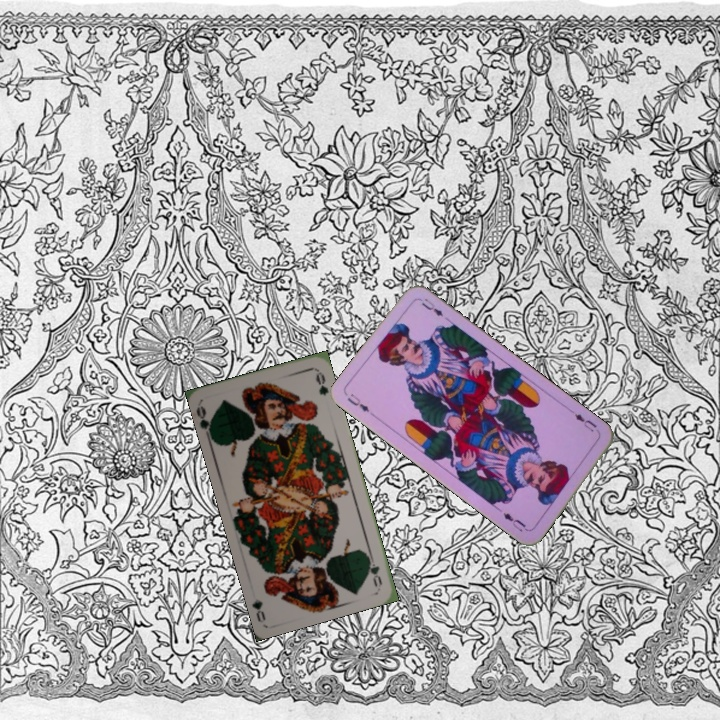EU: (567, 408, 602, 436), (343, 389, 372, 415)
GO: (193, 402, 216, 442), (362, 549, 385, 589)
